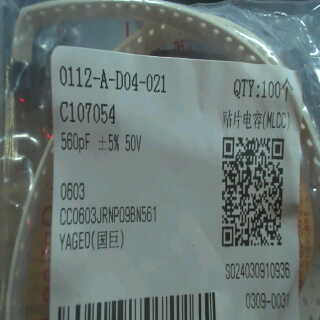560pF: (56, 128, 94, 156)
